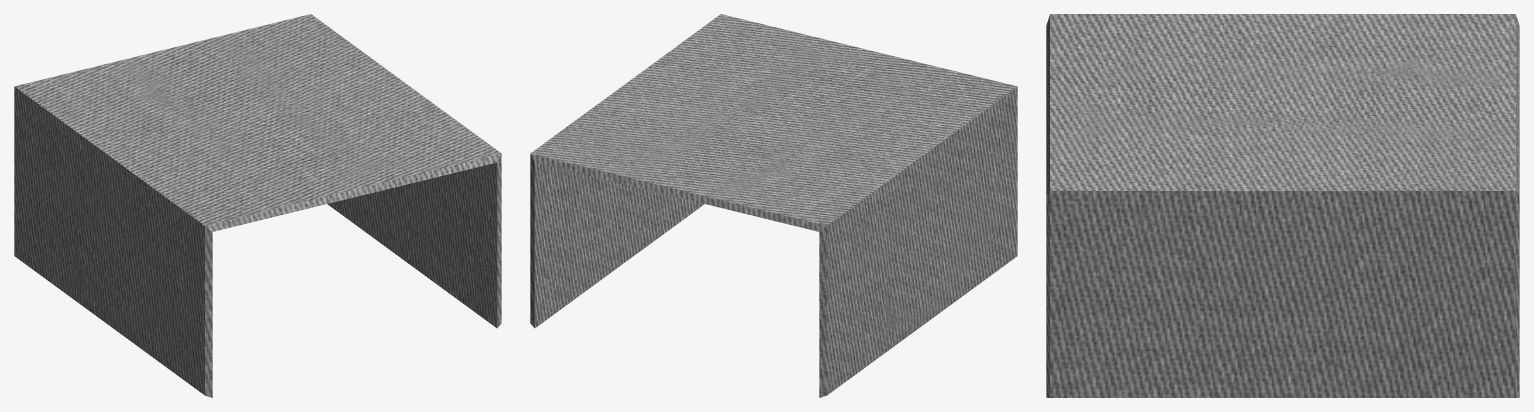
The model's file is TableCloth_02.fbx.
3 views of the same model, side by side, from view 1: azimuth 30°, elevation 25°; view 2: azimuth 150°, elevation 25°; view 3: azimuth 270°, elevation 25° (orthographic). The views are drawn at different scales.
Parts seen in each view (by area): view 1: SM_Prop_TableCloth_02; view 2: SM_Prop_TableCloth_02; view 3: SM_Prop_TableCloth_02.
Part boxes in pixels (x1,y1,x2,y2): SM_Prop_TableCloth_02: (14, 14, 501, 397); SM_Prop_TableCloth_02: (530, 14, 1017, 397); SM_Prop_TableCloth_02: (1046, 14, 1519, 397).
Size of the model in its own units: 112 by 62.22 by 127.
